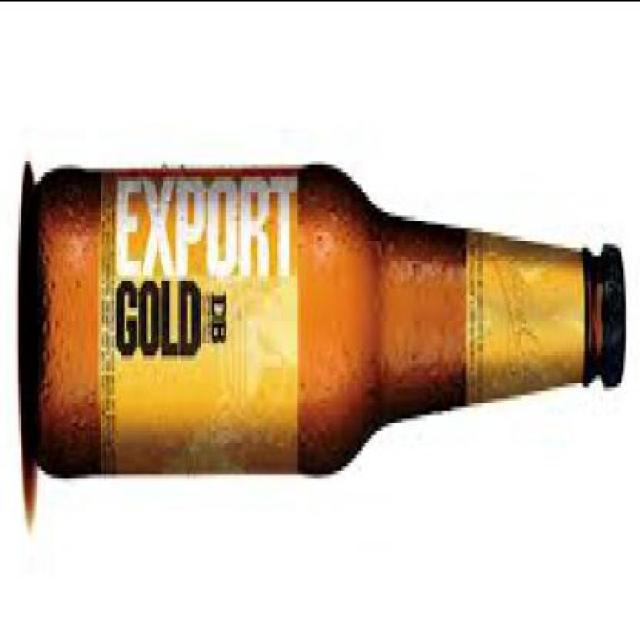GLASS: (22, 159, 604, 473)
METAL: (608, 234, 629, 381)
